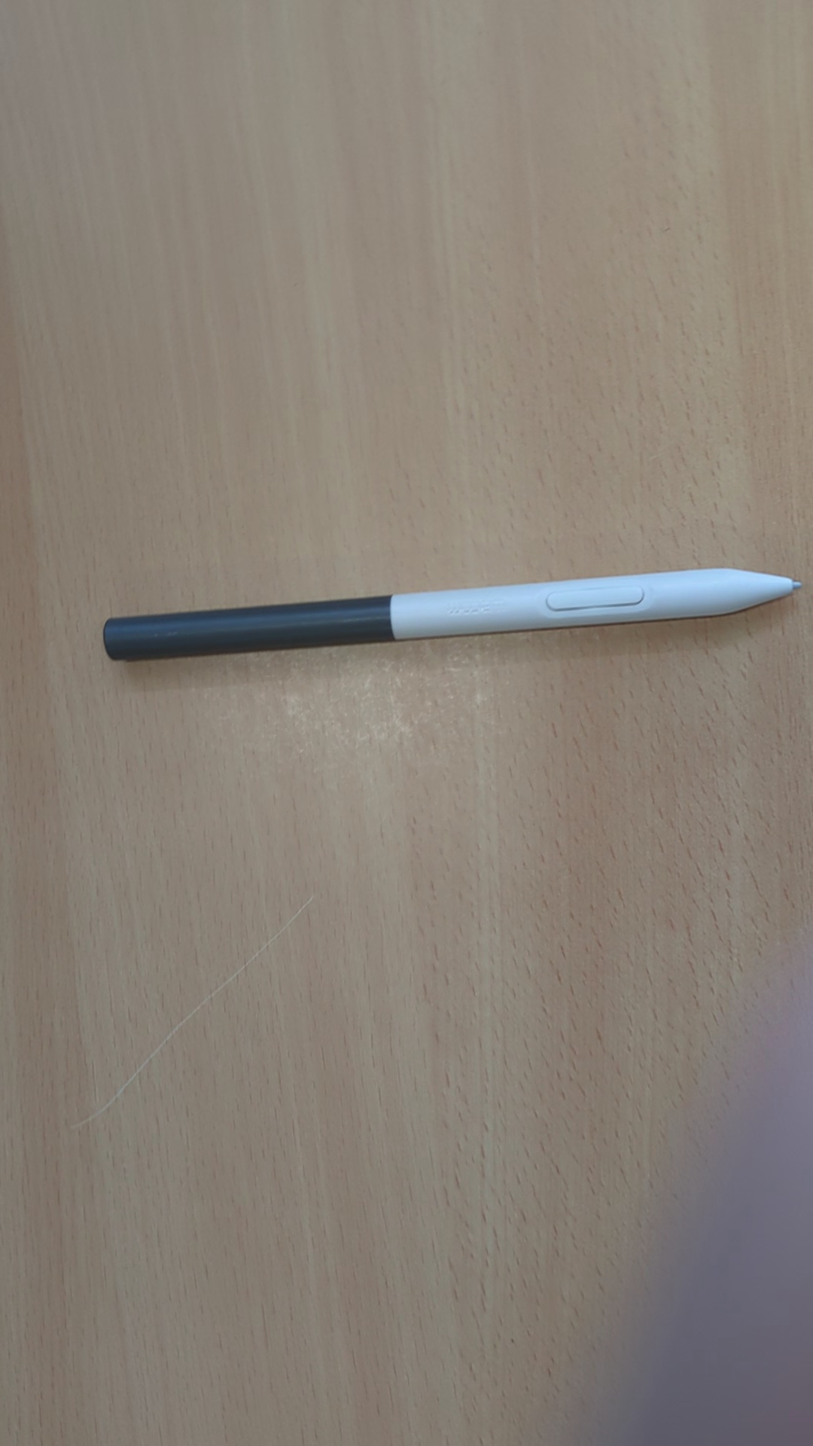pen: (101, 563, 805, 664)
tip: (779, 570, 805, 600)
